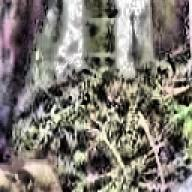boar: (0, 0, 55, 190)
